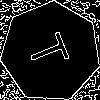T: (25, 27, 79, 73)
